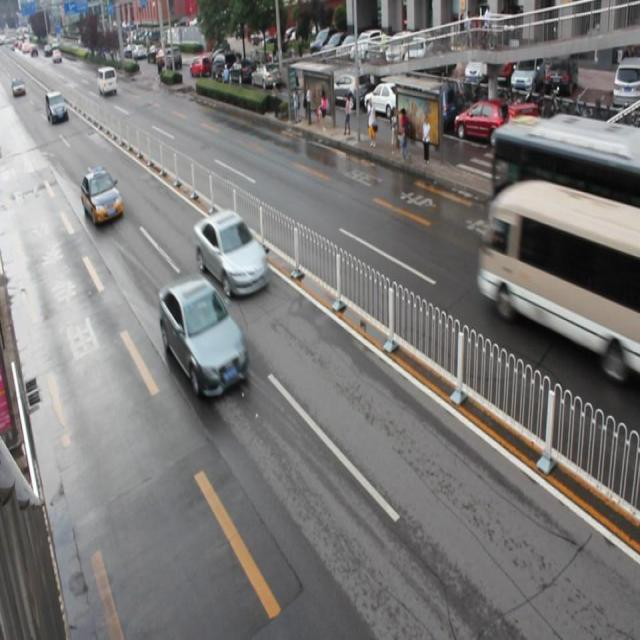car: (158, 274, 245, 396), (195, 210, 269, 295), (80, 167, 124, 226)
truck: (480, 182, 640, 374)
van: (491, 114, 640, 265)
